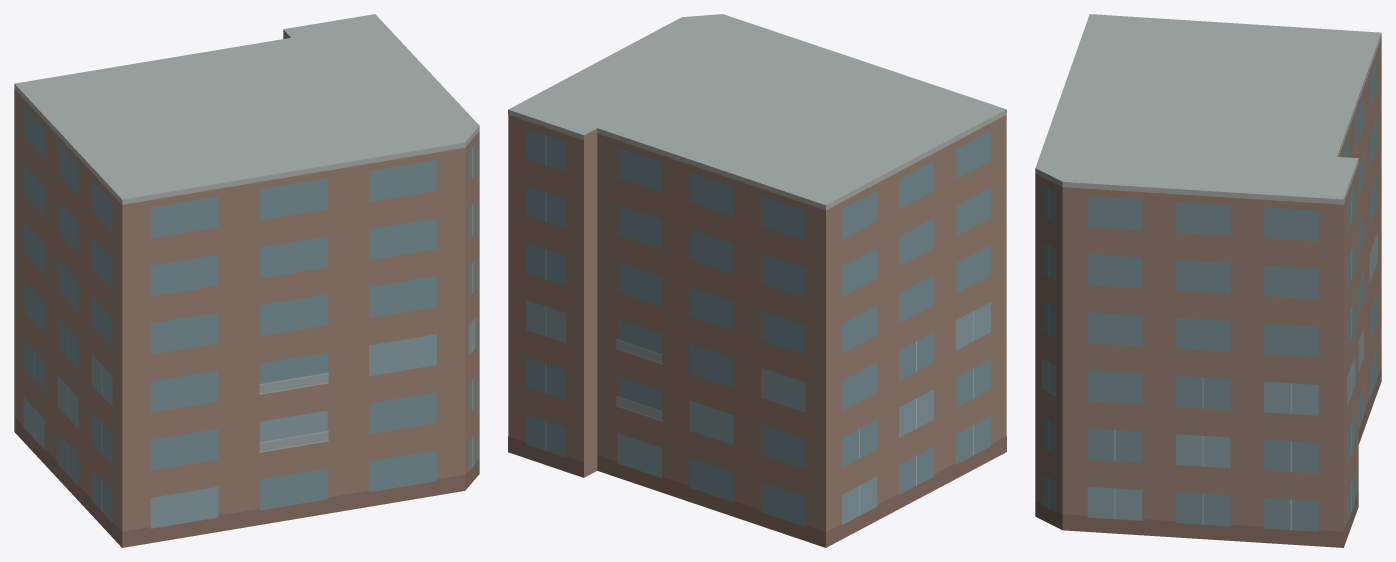
The model's file is survey-upis-32918169.glb.
The picture shows the model from 3 angles, left to right: view 1: azimuth 30°, elevation 25°; view 2: azimuth 150°, elevation 25°; view 3: azimuth 270°, elevation 25°; orthographic projection.
Parts seen in each view (by area): view 1: survey-upis-32918169.tmp; view 2: survey-upis-32918169.tmp; view 3: survey-upis-32918169.tmp.
Boxes of the visible parts, x1,y1,x2,y2 form: survey-upis-32918169.tmp: (14,14,479,547); survey-upis-32918169.tmp: (508,14,1006,547); survey-upis-32918169.tmp: (1035,14,1381,547).
Size of the model in its own units: 18.51 by 16.2 by 14.6.
